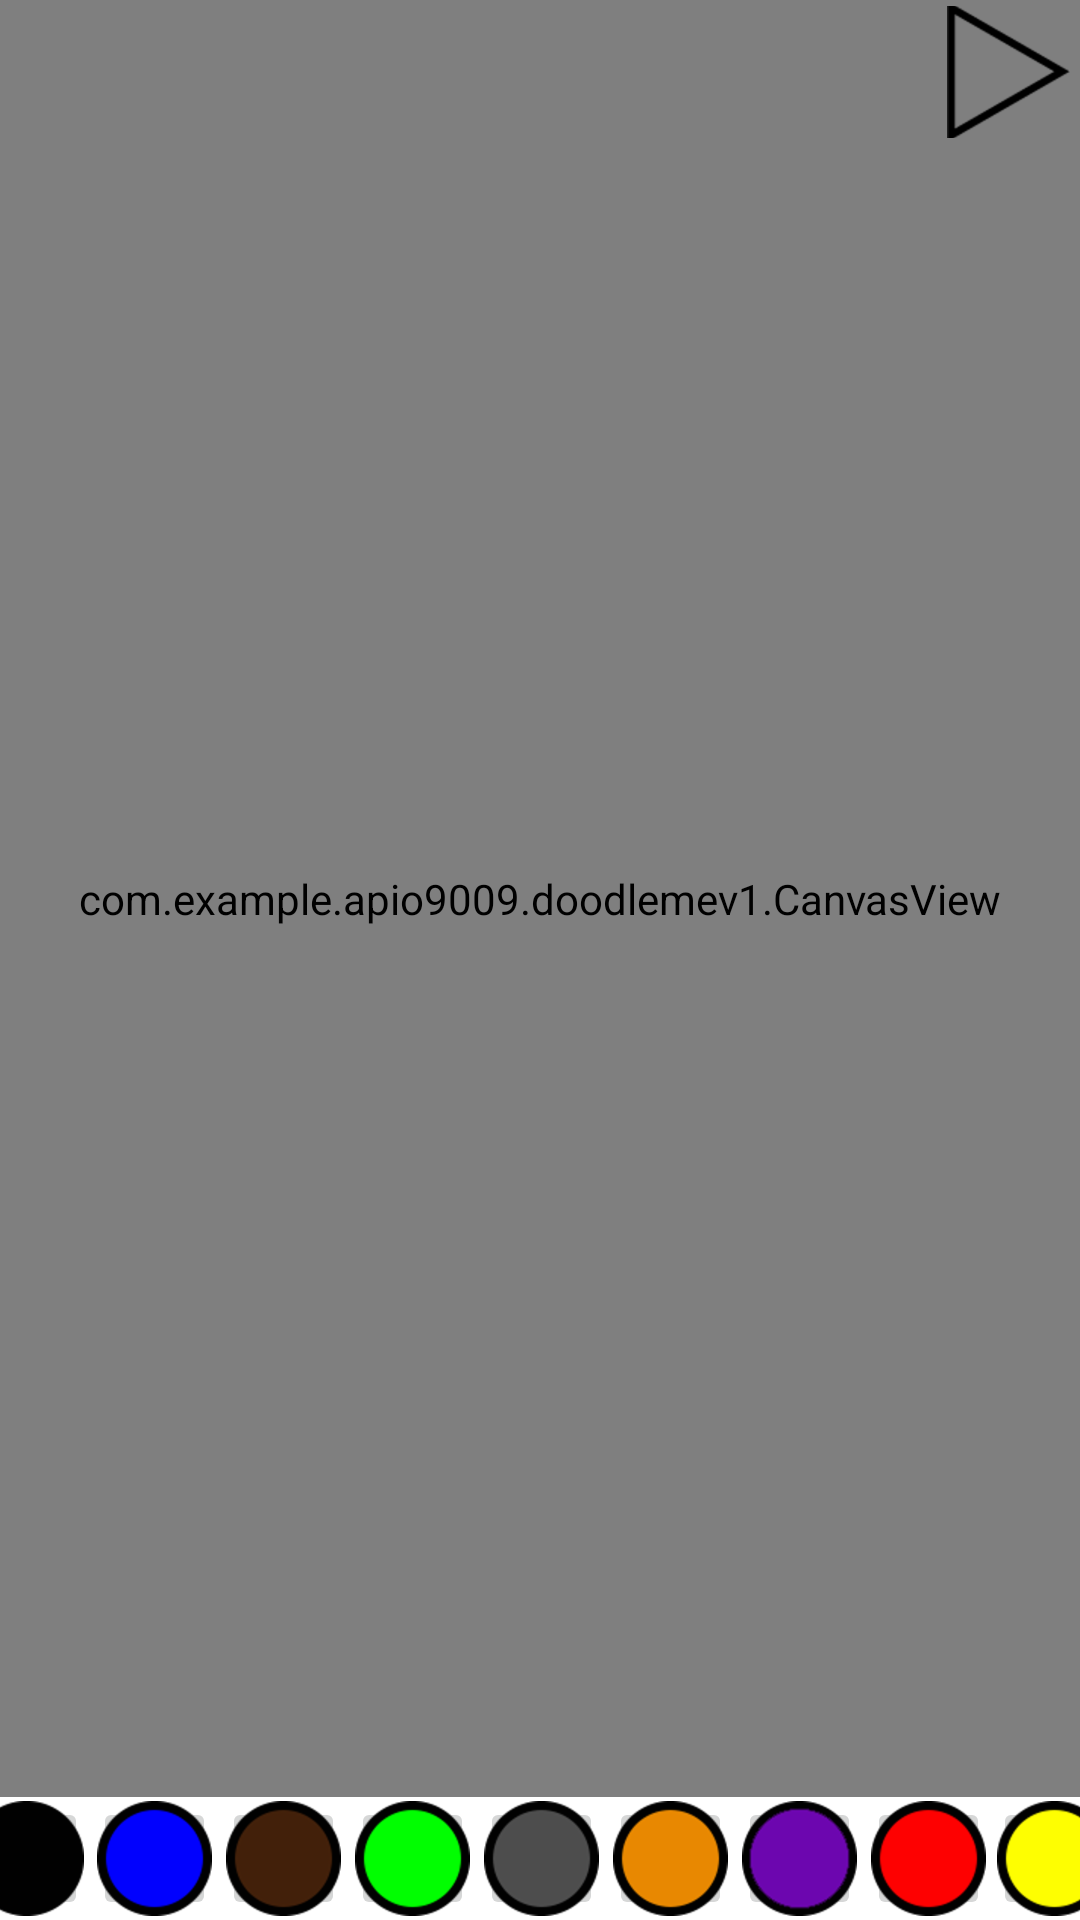

Screen size 1080w x 1920h. Icon name, then its box in pixels as bbox(x1, y1, x2, y2):
bluecolor: bbox(97, 1801, 212, 1916)
browncolor: bbox(226, 1801, 341, 1916)
greencolor: bbox(355, 1801, 470, 1916)
greycolor: bbox(484, 1801, 599, 1916)
orangecolor: bbox(613, 1801, 728, 1916)
purpcolor: bbox(742, 1801, 857, 1916)
redcolor: bbox(871, 1801, 986, 1916)
